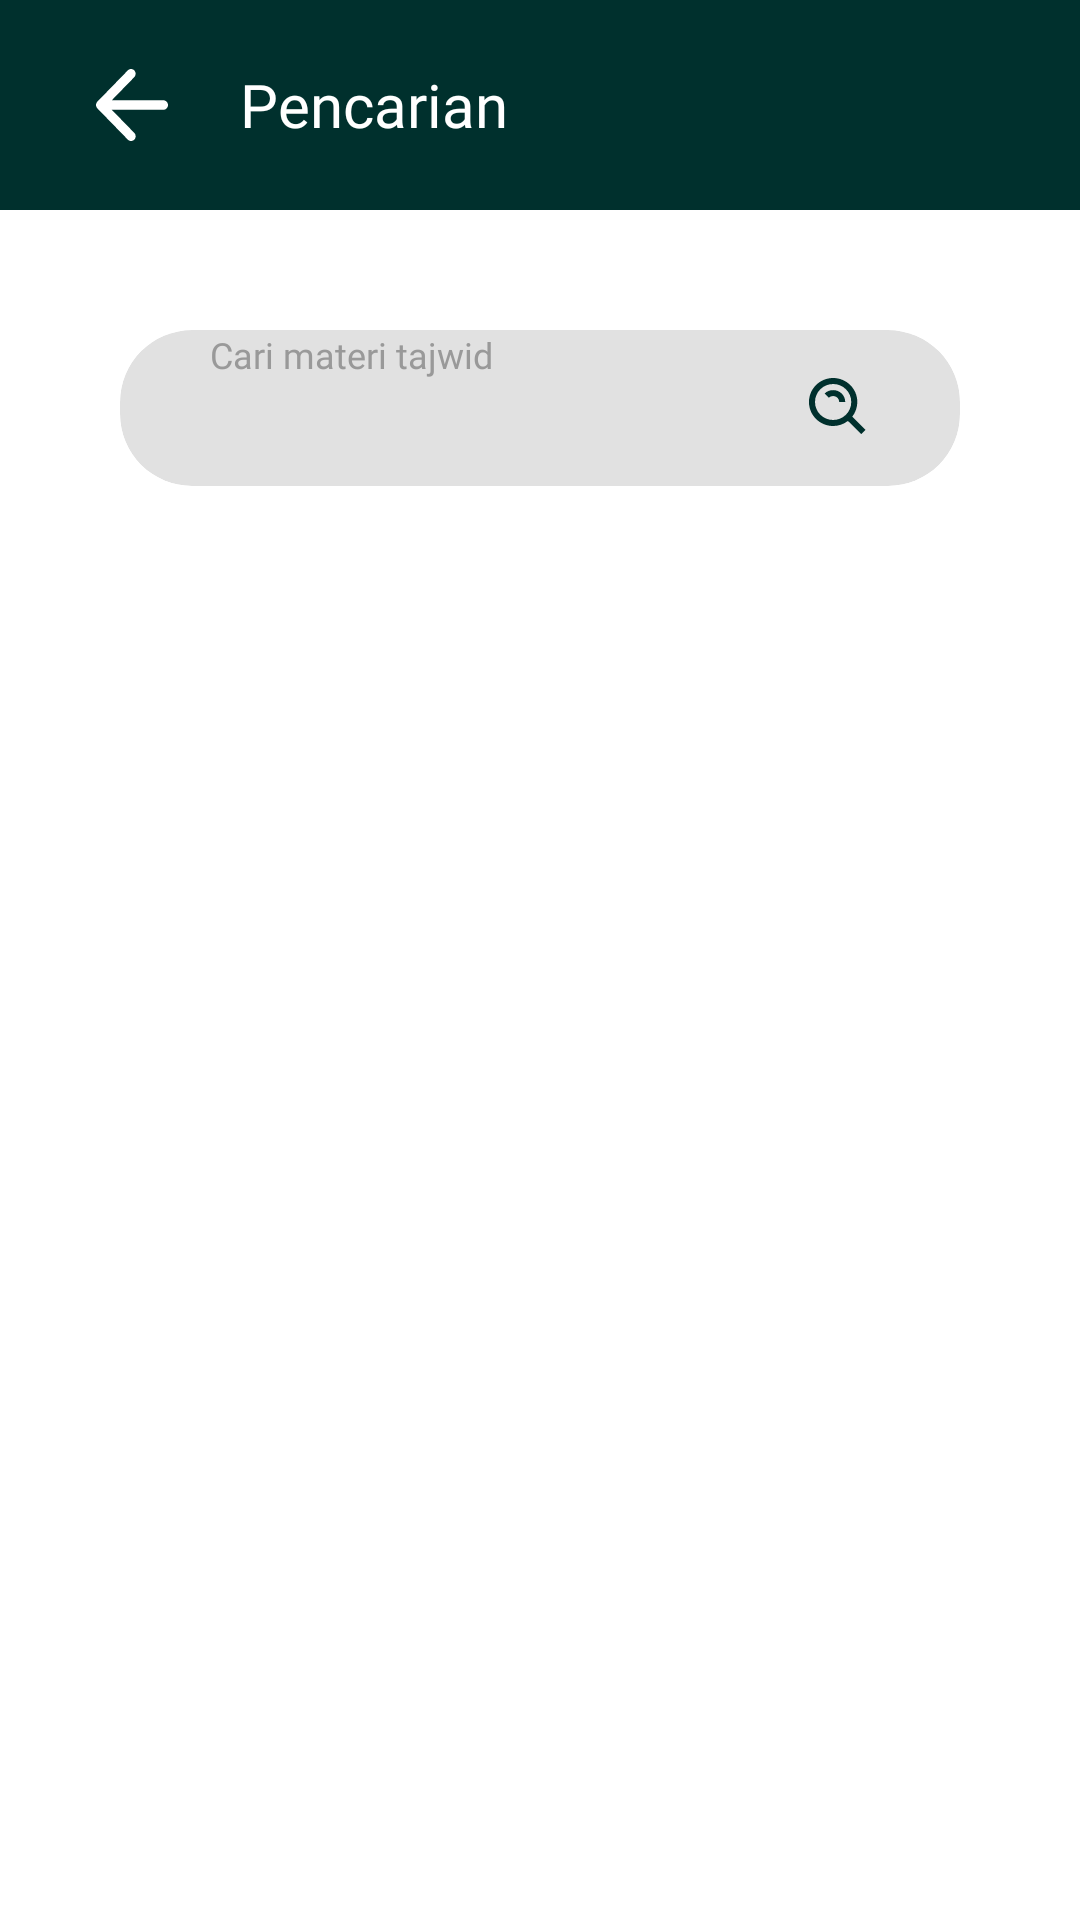

Icons on this 1080w x 1920h Android screen, each with its box as [x1, y1, x2, y2]:
back: [96, 69, 168, 141]
search: [809, 378, 866, 434]
